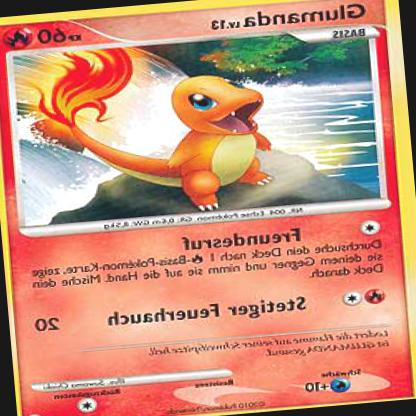Charmander: (121, 67, 278, 219)
